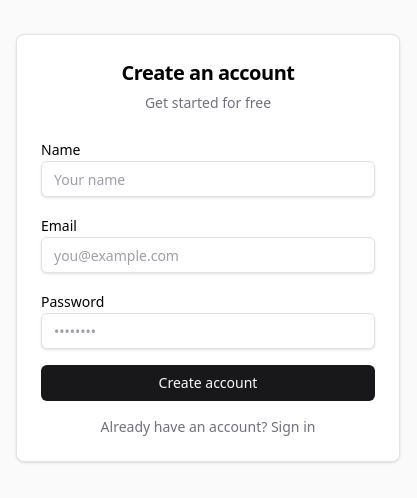
Test: SignUpPage › shows an error message on sign up failure
Step 1. Type "Alice" into the field labelled "Name" → (208, 179), box left=41, top=161, right=375, bottom=197
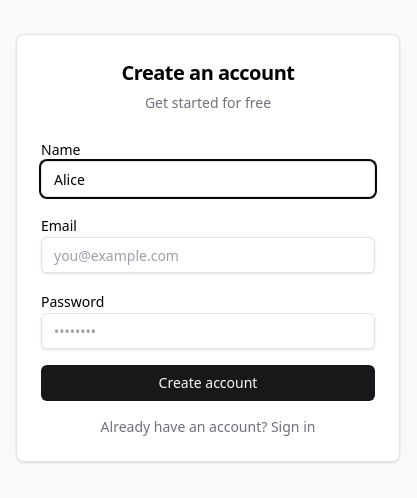
Step 2. Type "existing@example.com" into the field labelled "Email" → (208, 255), box left=41, top=237, right=375, bottom=273
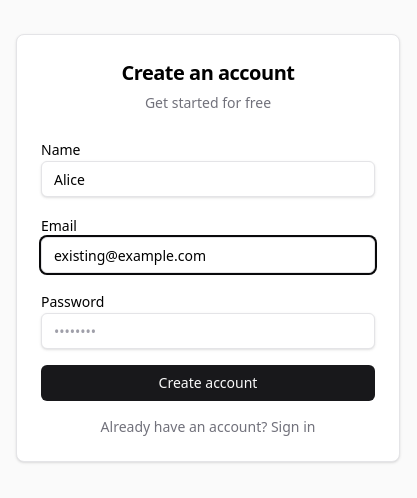
Step 3. Type "password123" into the password field labelled "Password" → (208, 331), box left=41, top=313, right=375, bottom=349
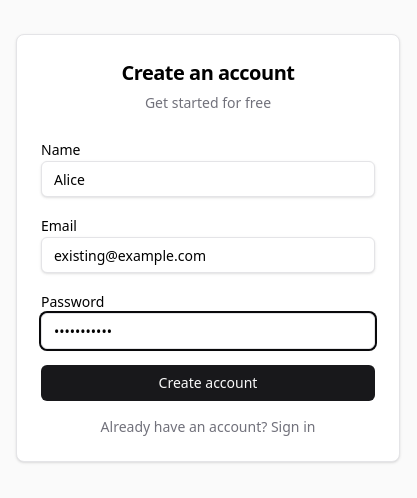
Step 4. Click the button "Create account" → (208, 383), box left=41, top=365, right=375, bottom=401
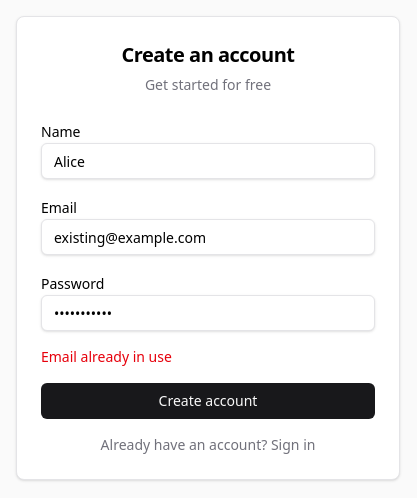
Expected: the text "Email already in use" is shown, left=41, top=347, right=172, bottom=366
